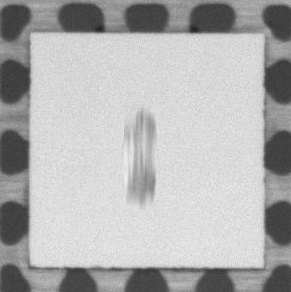DIE_INK: (116, 107, 160, 209)
